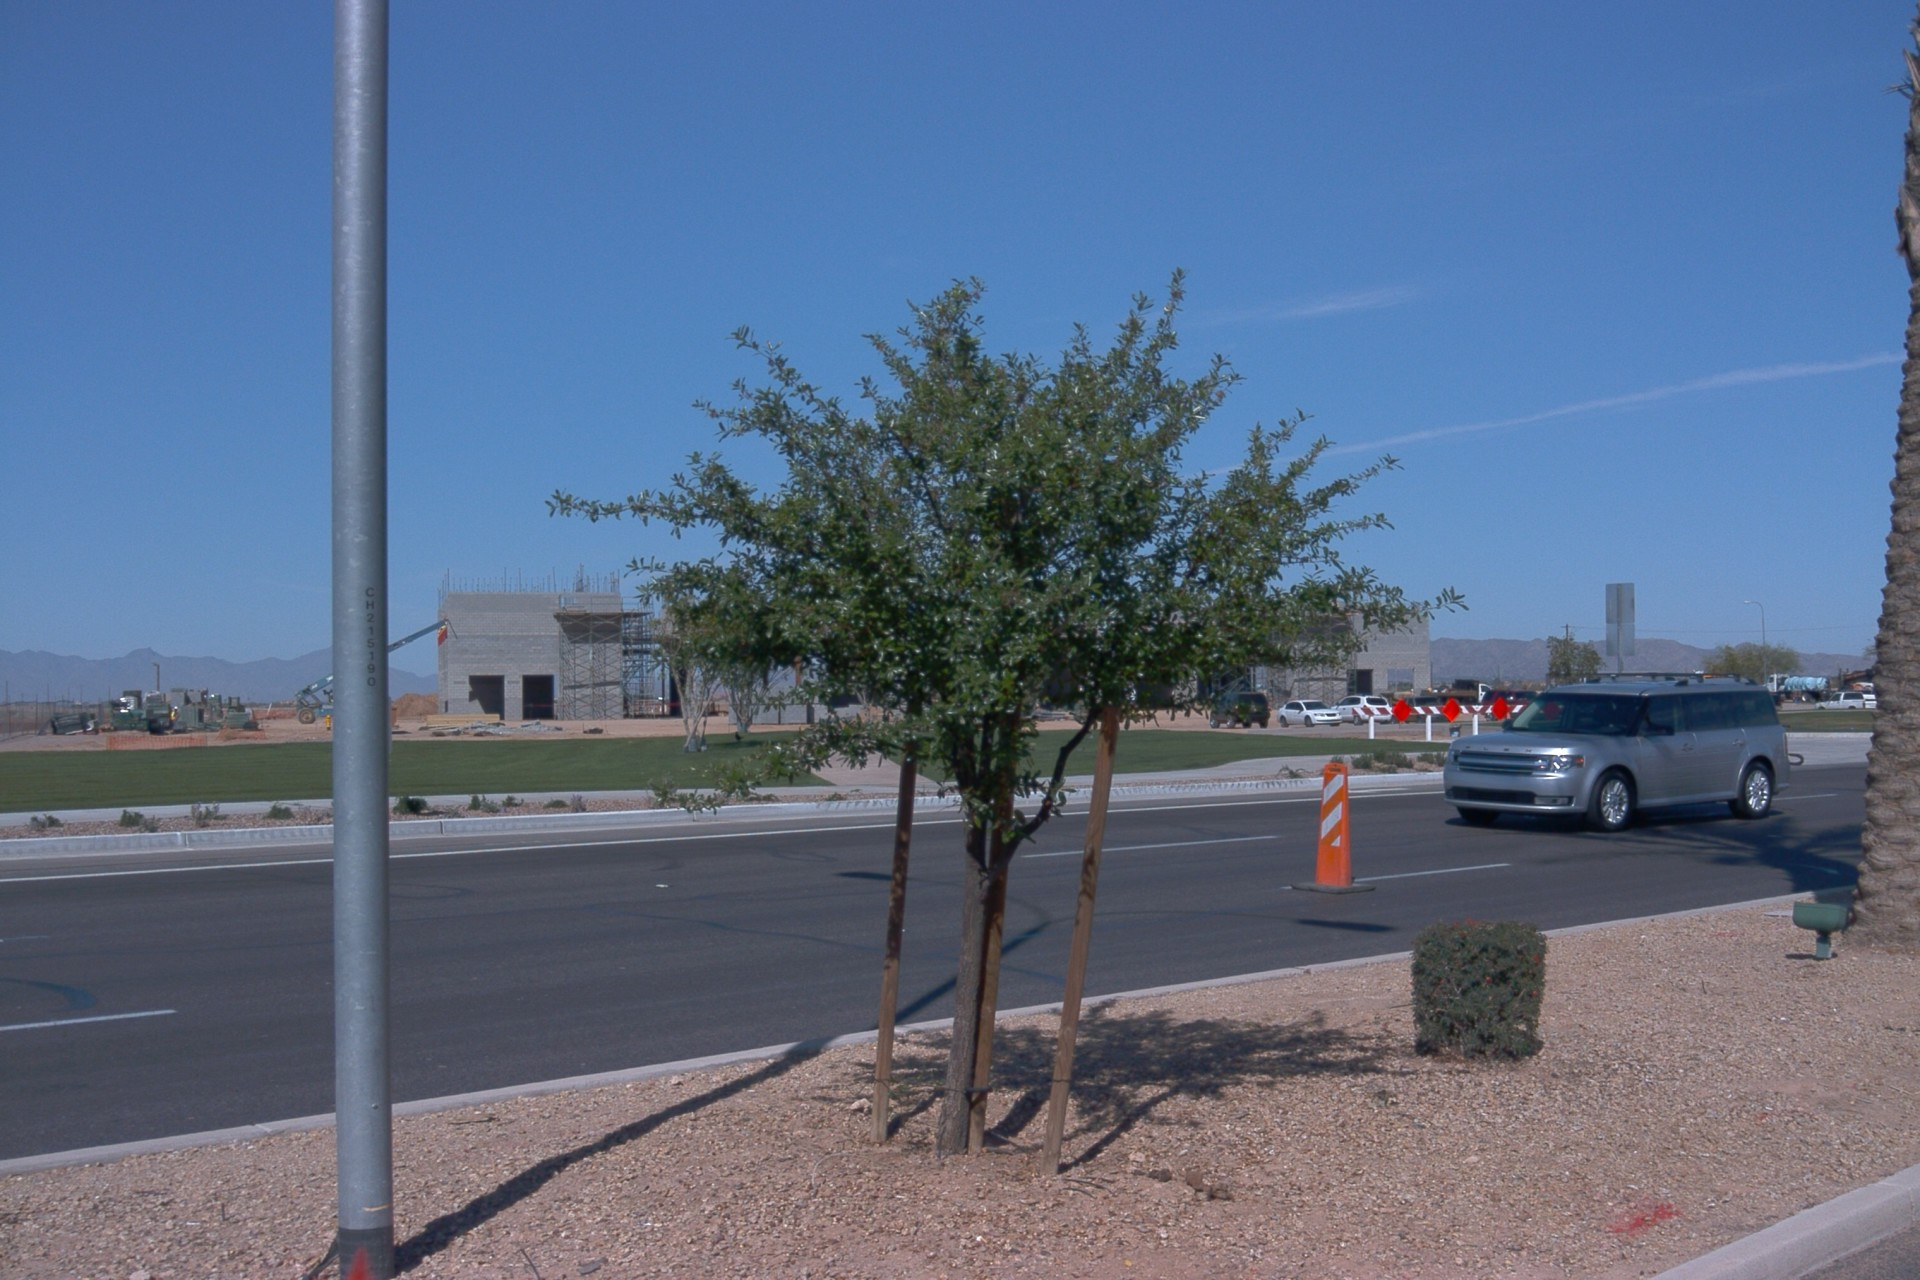TYPE_PEDESTRIAN: (167, 702, 178, 724)
TYPE_VEHICLE: (1437, 672, 1790, 837), (290, 622, 457, 729), (1402, 679, 1496, 713), (1211, 690, 1272, 732), (1764, 674, 1831, 708), (1481, 686, 1541, 722), (1272, 698, 1339, 730), (1330, 694, 1393, 728), (1096, 682, 1139, 715), (1402, 695, 1454, 719), (1815, 689, 1877, 708), (1651, 673, 1717, 687)
